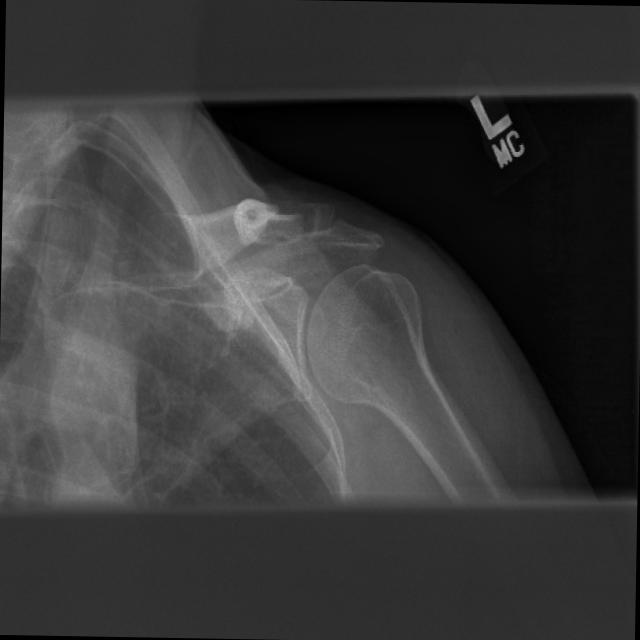shoulder fracture: (280, 193, 331, 259)
